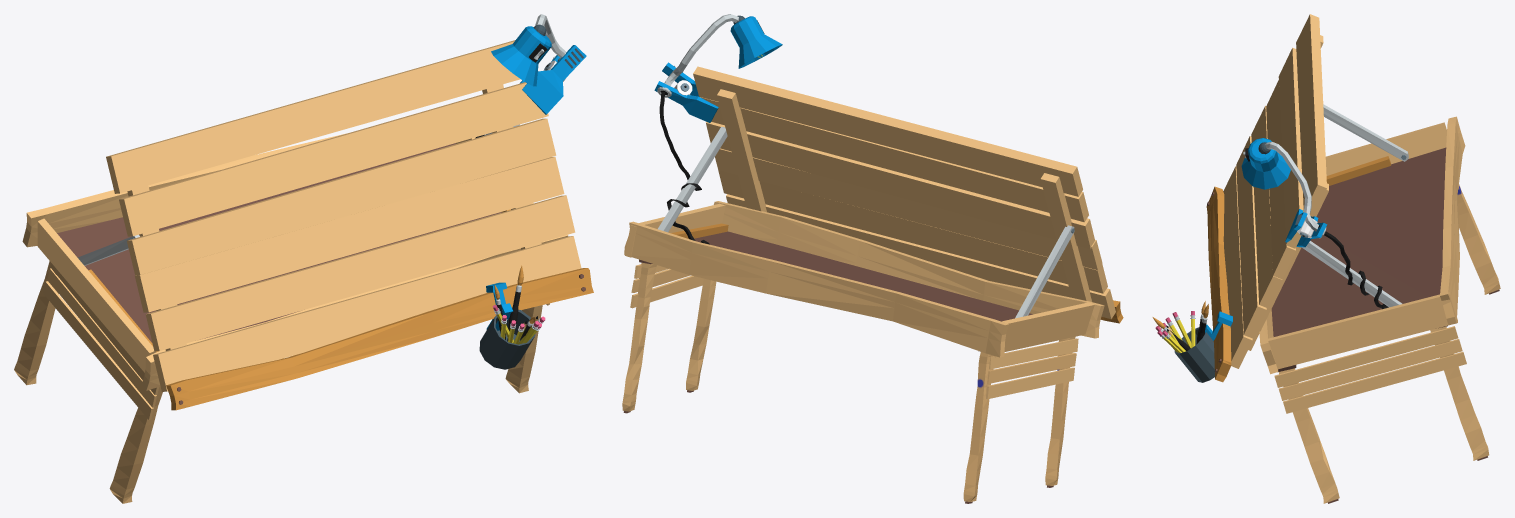
File: easel4.glb
The picture shows the model from 3 angles, left to right: view 1: azimuth 30°, elevation 25°; view 2: azimuth 150°, elevation 25°; view 3: azimuth 270°, elevation 25°; orthographic projection. The views are drawn at different scales.
Size of the model in its own units: 0.4906 by 0.4105 by 0.3539.
14 materials, 14 textured.
